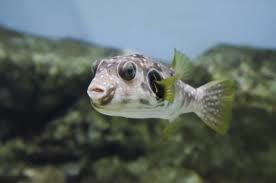hugu: (83, 16, 217, 150)
